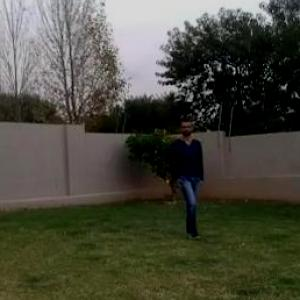follow: (173, 115, 204, 235)
